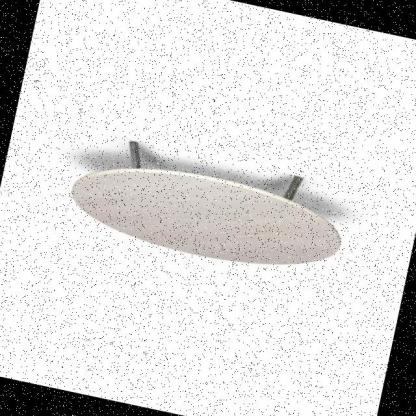Table: (37, 107, 378, 302)
